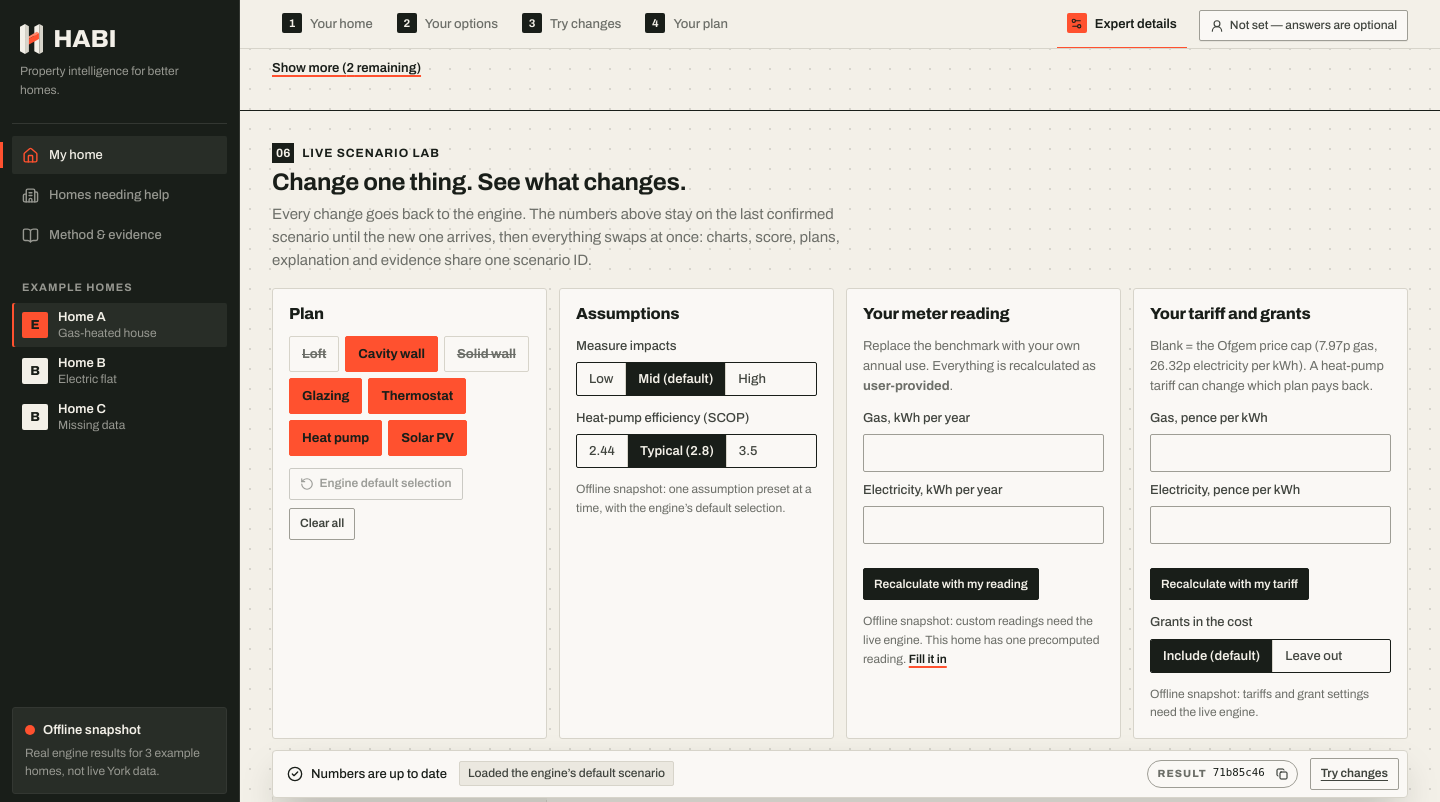
it: My Home: demo home A (Poor gas house) › validates the meter reading form
(page scrolled)
Type "lots" into the field labelled "Gas, kWh per year".
click(984, 453); type("lots")  # box x1=863 y1=434 x2=1104 y2=472
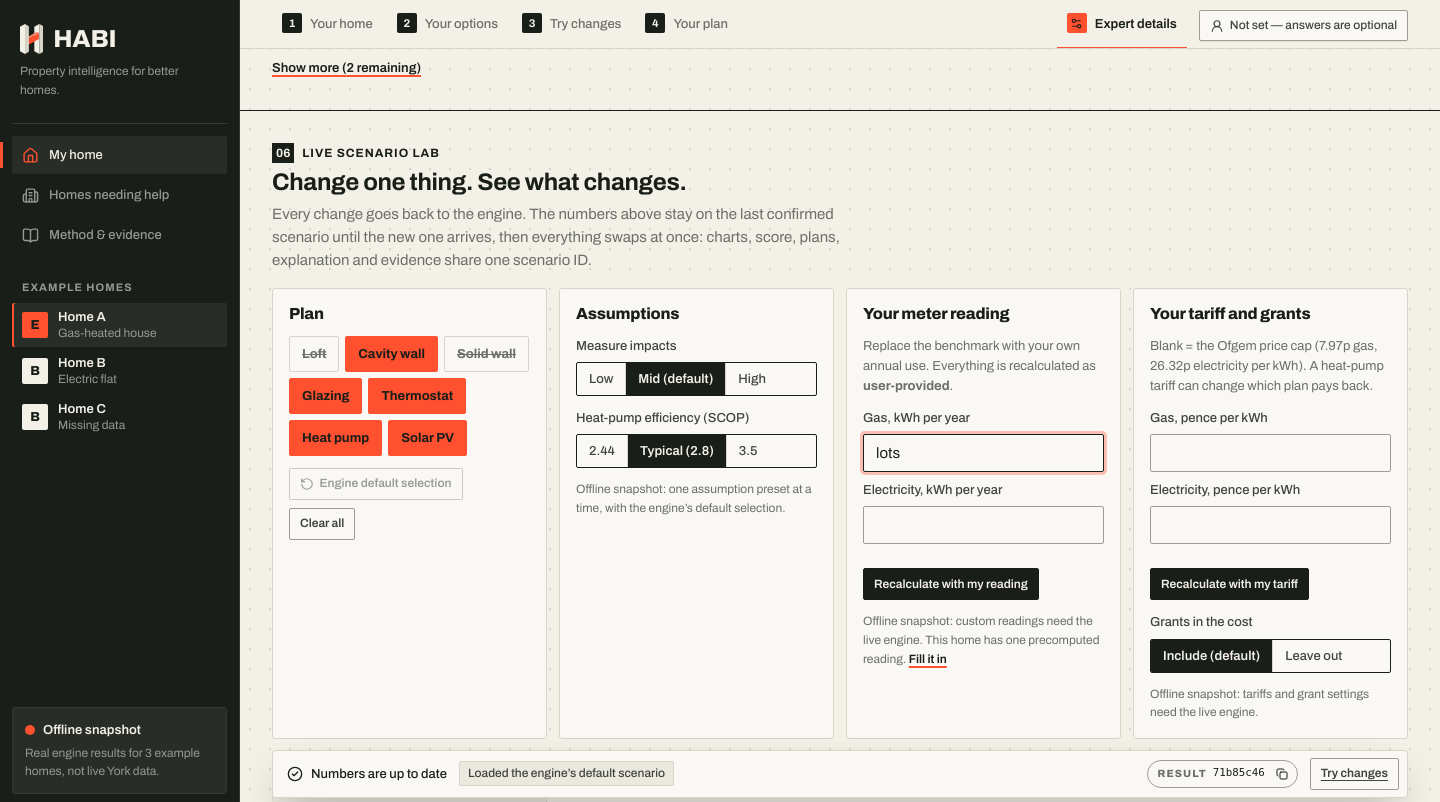
Click the button "Recalculate with my reading".
click(951, 584)  # box x1=863 y1=568 x2=1039 y2=600
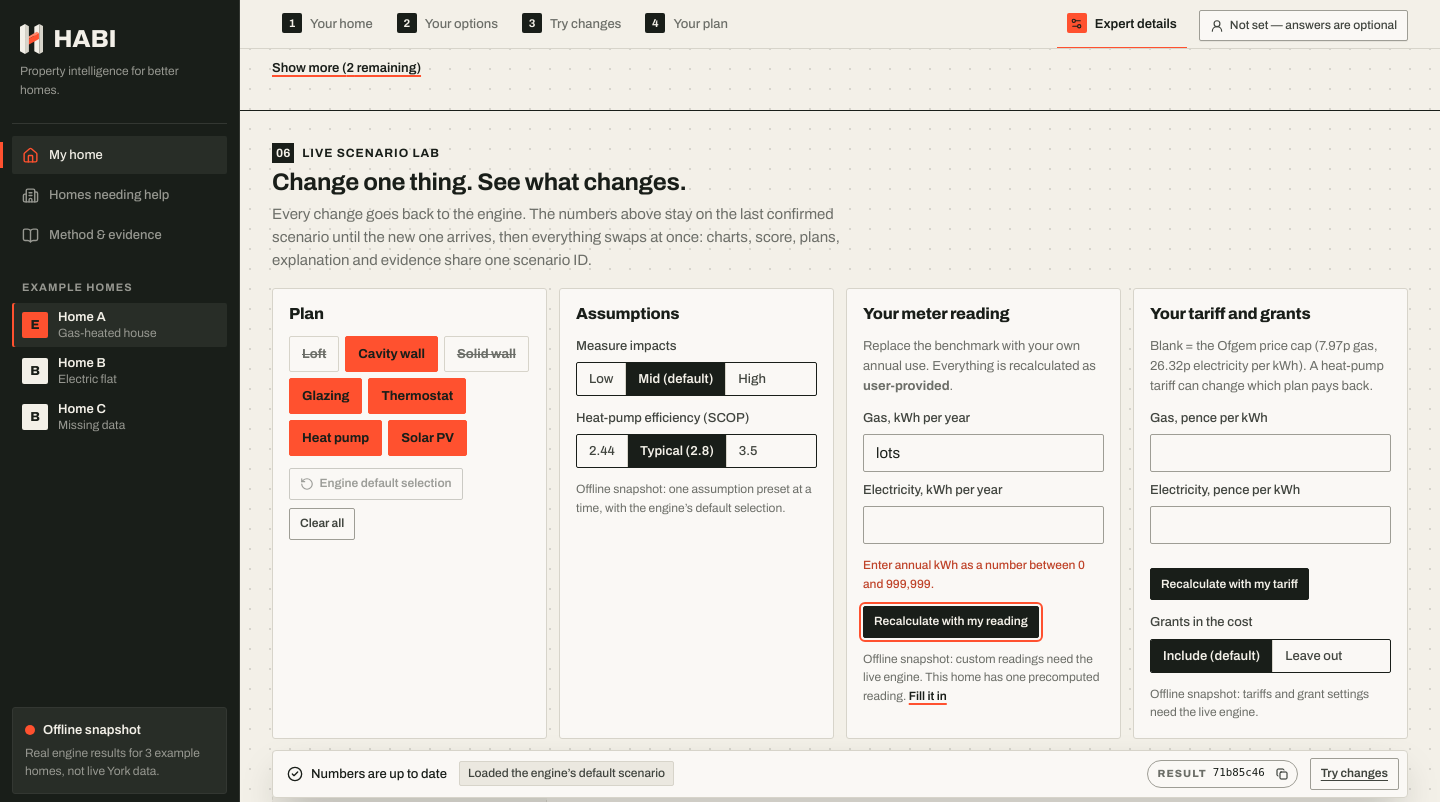
Expected: the message shows "Enter annual kWh as a number", x1=863 y1=558 x2=1085 y2=591
